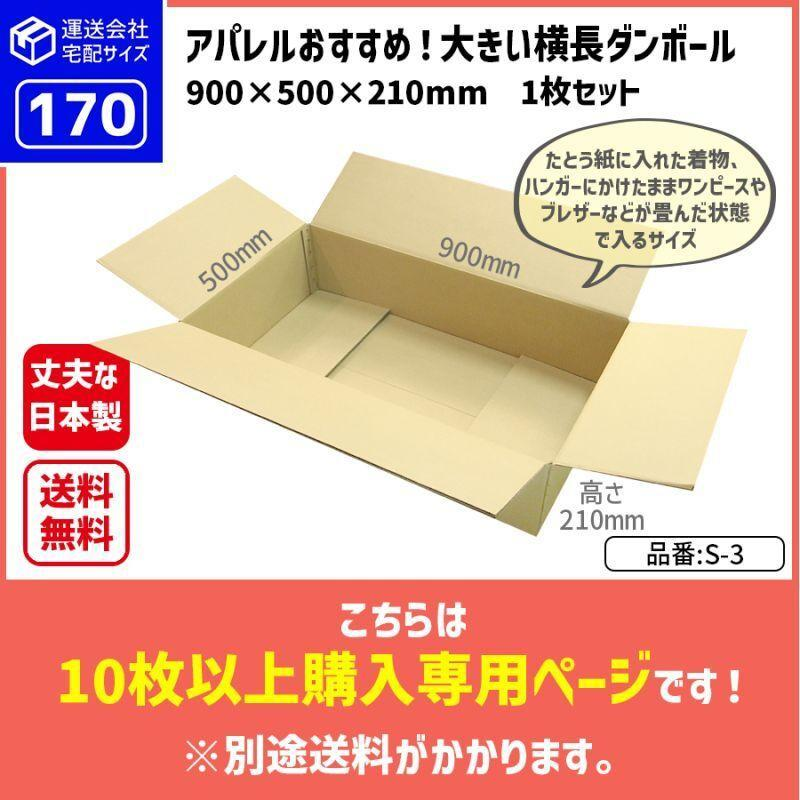box: (105, 148, 727, 531)
